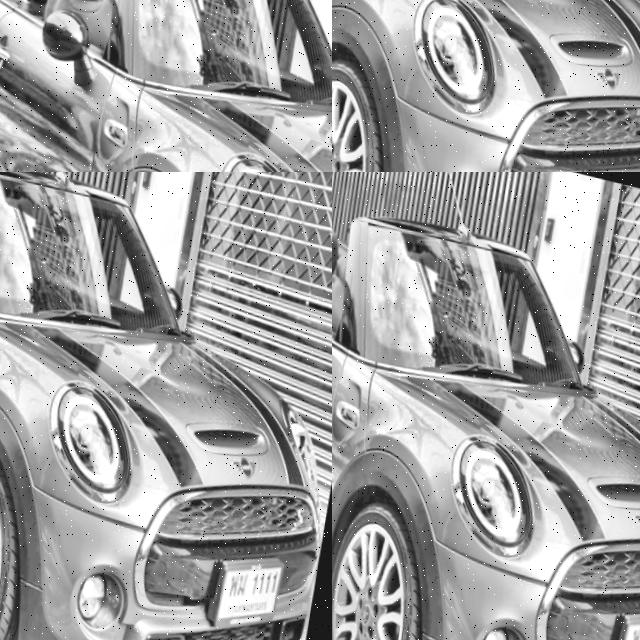license-plate: (602, 577, 640, 640)
